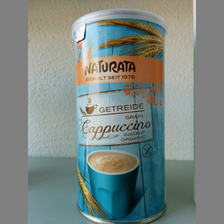coffee: (70, 8, 169, 224)
